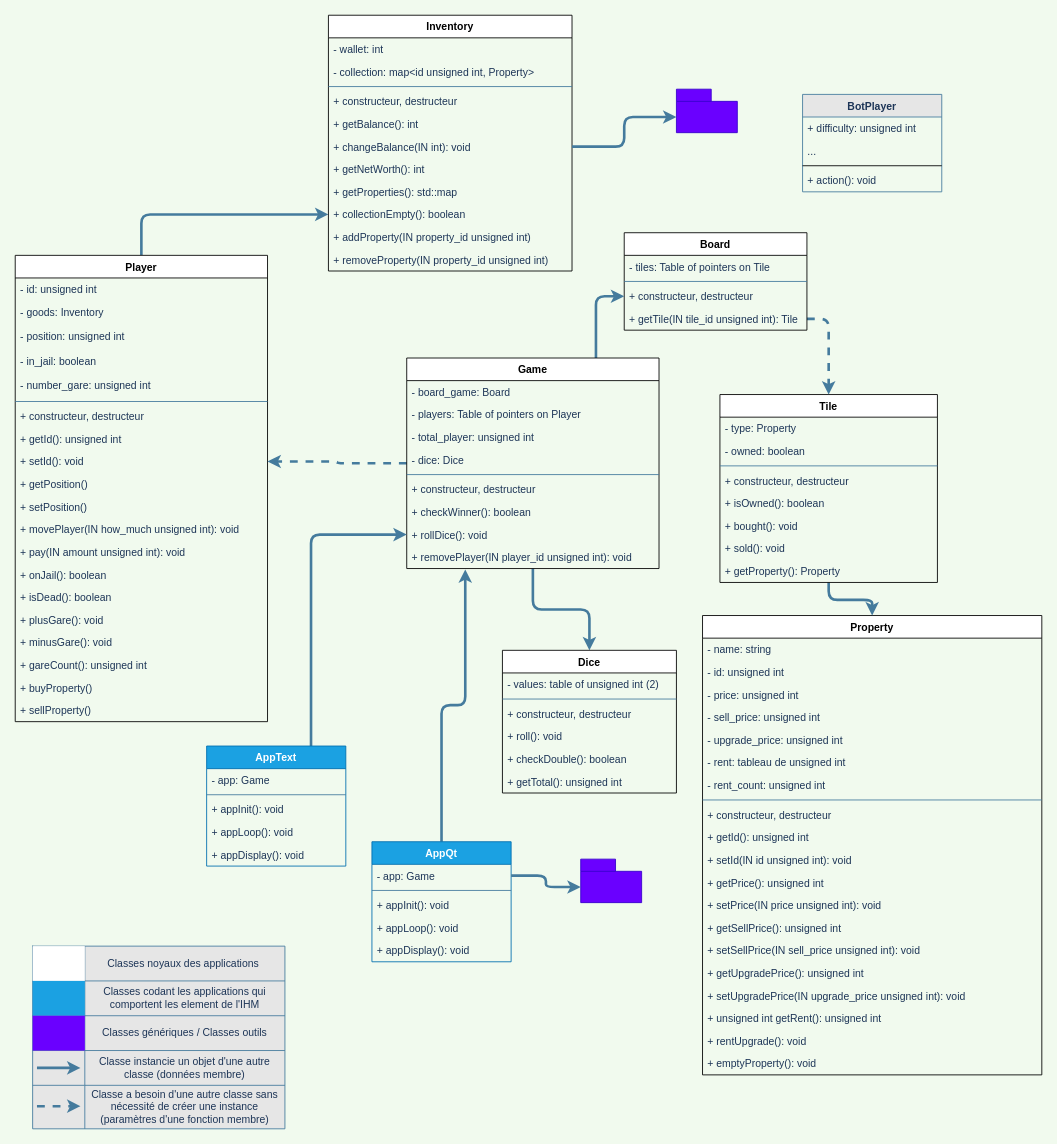
This 1057x1144 diagram has some shape labels left out. Each missing label, with the centre of its shape:
Qt5: pixel 611 880
std::map: pixel 706 110
